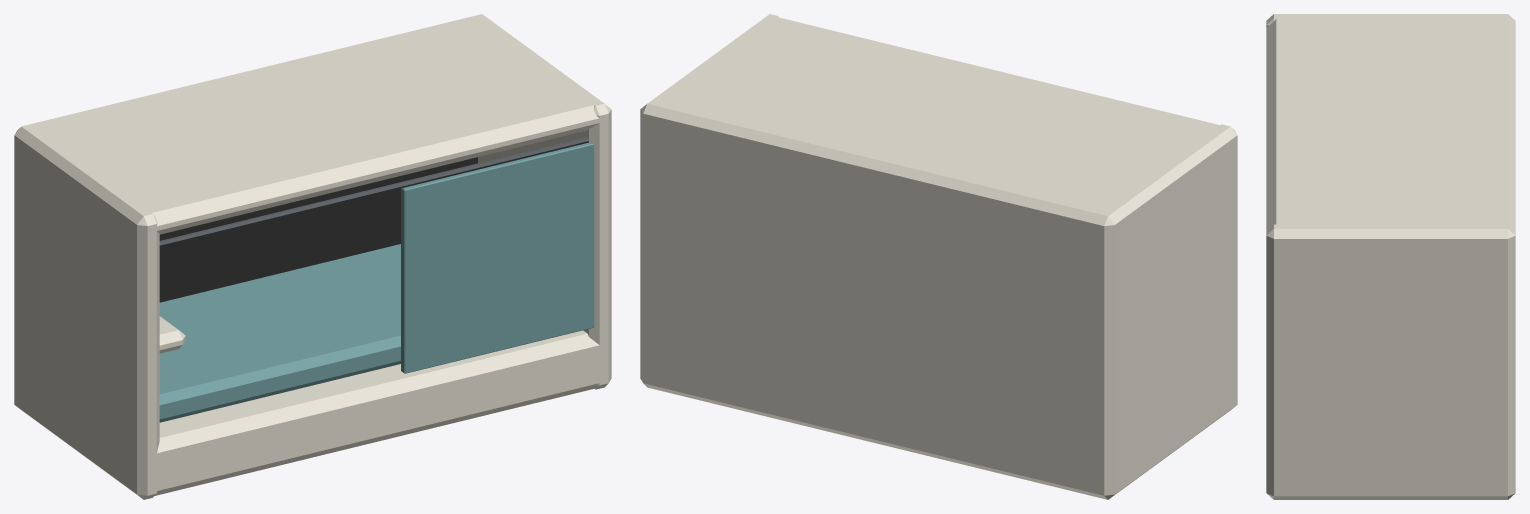
The model's file is sleeping_pod.glb.
The picture shows the model from 3 angles, left to right: view 1: azimuth 30°, elevation 25°; view 2: azimuth 150°, elevation 25°; view 3: azimuth 270°, elevation 25°; orthographic projection. The views are drawn at different scales.
Visible parts, largest first — view 1: sleeping_pod; view 2: sleeping_pod; view 3: sleeping_pod.
Boxes of the visible parts, <box> form: sleeping_pod: <box>14,14,611,499</box>; sleeping_pod: <box>640,14,1237,499</box>; sleeping_pod: <box>1266,14,1515,499</box>.
Bounding box in the file's own units: 2.1 × 1.2 × 1.
